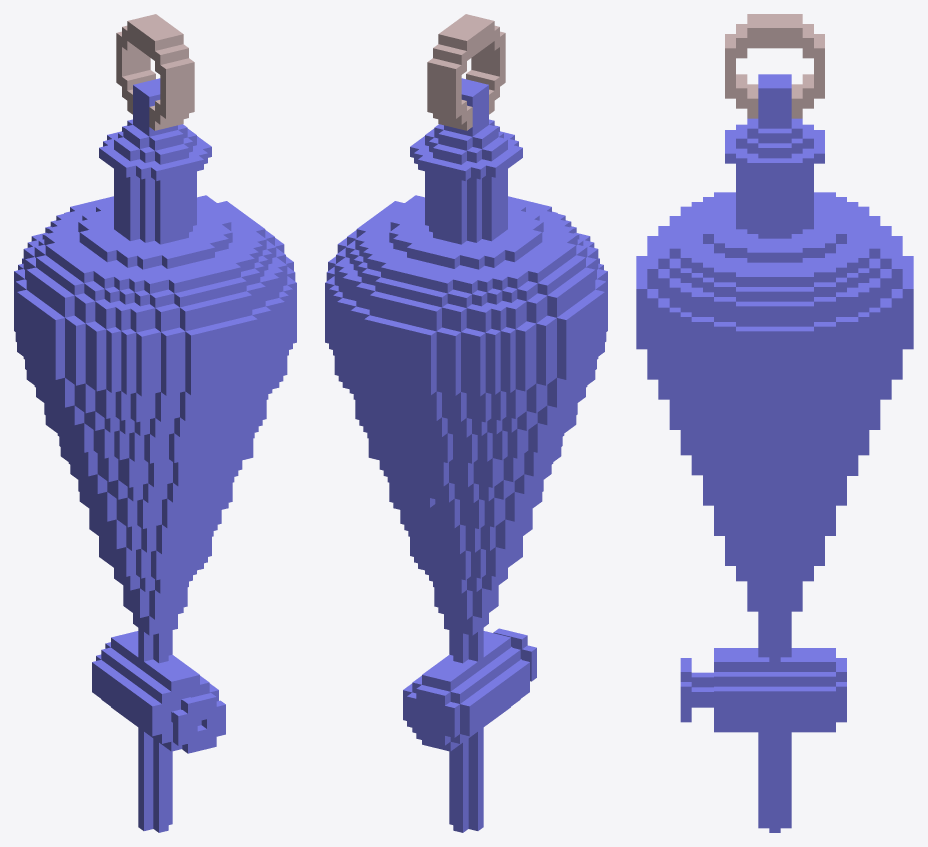
File: Flask8-2-1.fbx
3 views of the same model, side by side, from view 1: azimuth 30°, elevation 25°; view 2: azimuth 150°, elevation 25°; view 3: azimuth 270°, elevation 25° (orthographic).
Parts seen in each view (by area): view 1: Flask8-2-1.001, Flask8-2-1.002, Flask8-2-1.003, Flask8-2-1.004; view 2: Flask8-2-1.001, Flask8-2-1.002, Flask8-2-1.003, Flask8-2-1.004; view 3: Flask8-2-1.001, Flask8-2-1.002, Flask8-2-1.003, Flask8-2-1.004.
Part boxes in pixels (bbox=[...]): Flask8-2-1.001: bbox=[14, 14, 296, 366]; Flask8-2-1.002: bbox=[14, 301, 296, 663]; Flask8-2-1.003: bbox=[97, 636, 225, 832]; Flask8-2-1.004: bbox=[92, 631, 138, 710]; Flask8-2-1.001: bbox=[325, 14, 607, 366]; Flask8-2-1.002: bbox=[325, 301, 607, 663]; Flask8-2-1.003: bbox=[409, 628, 536, 832]; Flask8-2-1.004: bbox=[403, 671, 474, 751]; Flask8-2-1.001: bbox=[636, 14, 913, 361]; Flask8-2-1.002: bbox=[636, 319, 913, 661]; Flask8-2-1.003: bbox=[680, 648, 824, 832]; Flask8-2-1.004: bbox=[825, 648, 846, 732].
Size of the model in its own units: 2.5 by 8 by 2.5.
